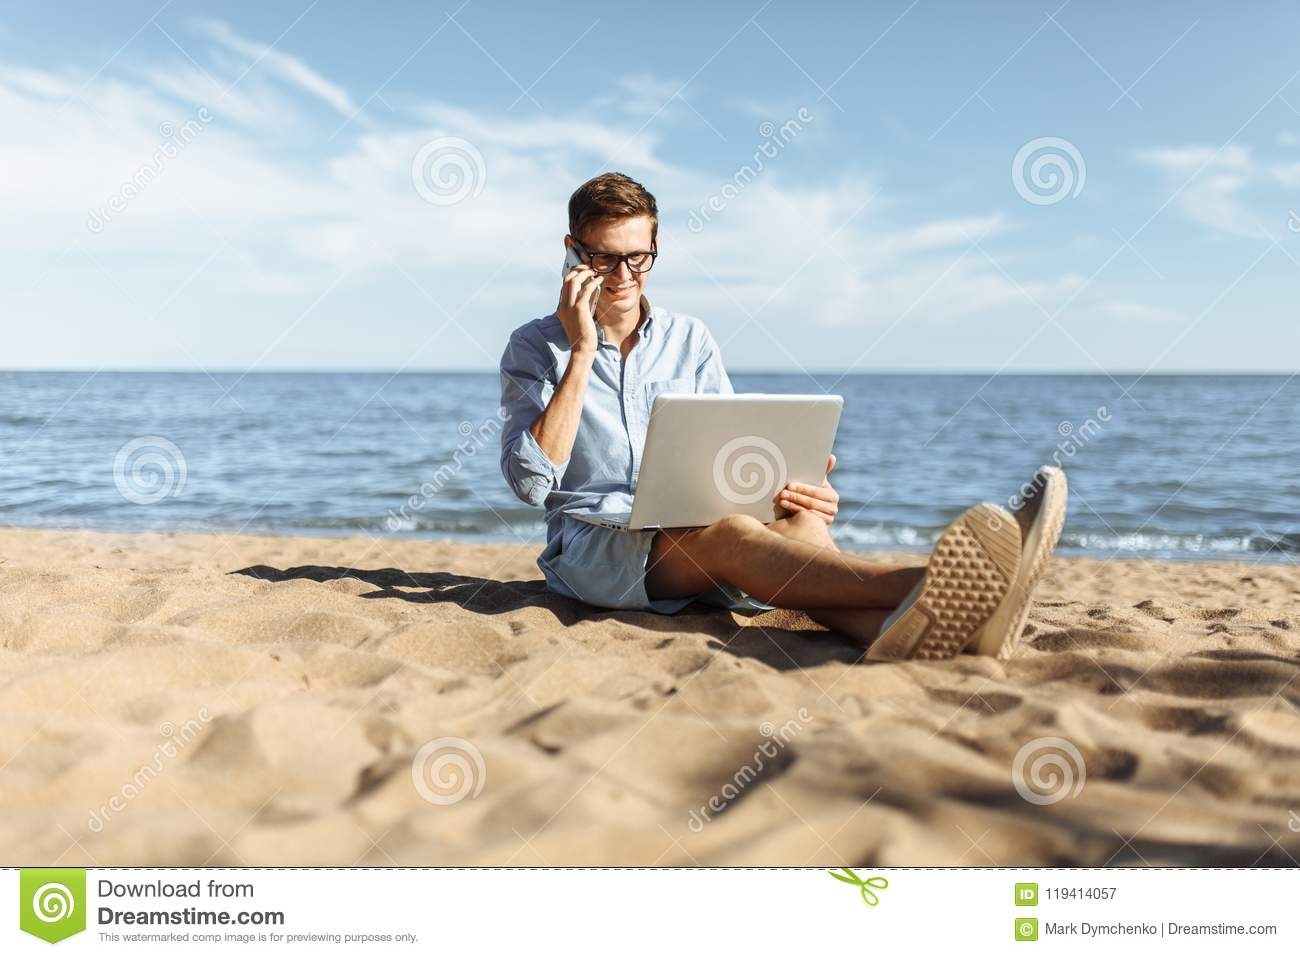phone: (562, 245, 603, 319)
talk: (553, 235, 652, 361)
